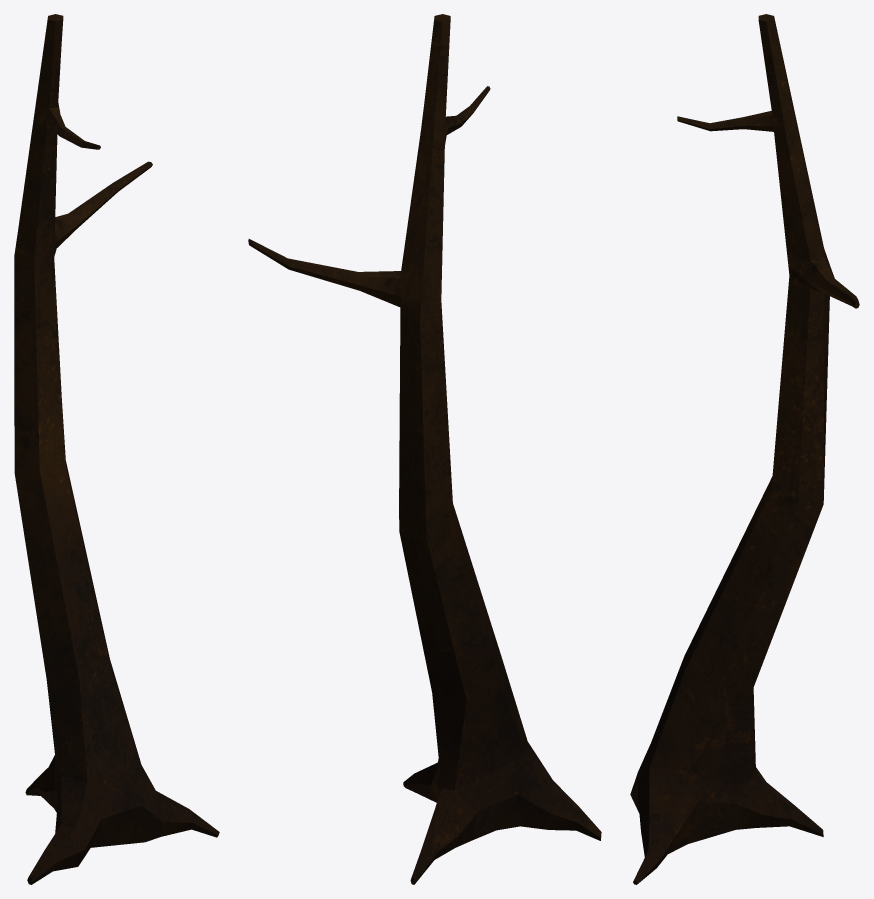
File: Tree_04_Nude.fbx
3 renders of one model, left to right at view 1: azimuth 30°, elevation 25°; view 2: azimuth 150°, elevation 25°; view 3: azimuth 270°, elevation 25°, orthographic. The views are drawn at different scales.
Visible parts, largest first — view 1: C; view 2: C; view 3: C.
Part boxes in pixels (left/top/right/bottom): C: left=14, top=14, right=219, bottom=884; C: left=248, top=14, right=601, bottom=884; C: left=630, top=14, right=859, bottom=884.
Bounding box in the file's own units: 6.62 × 22.08 × 5.59.
